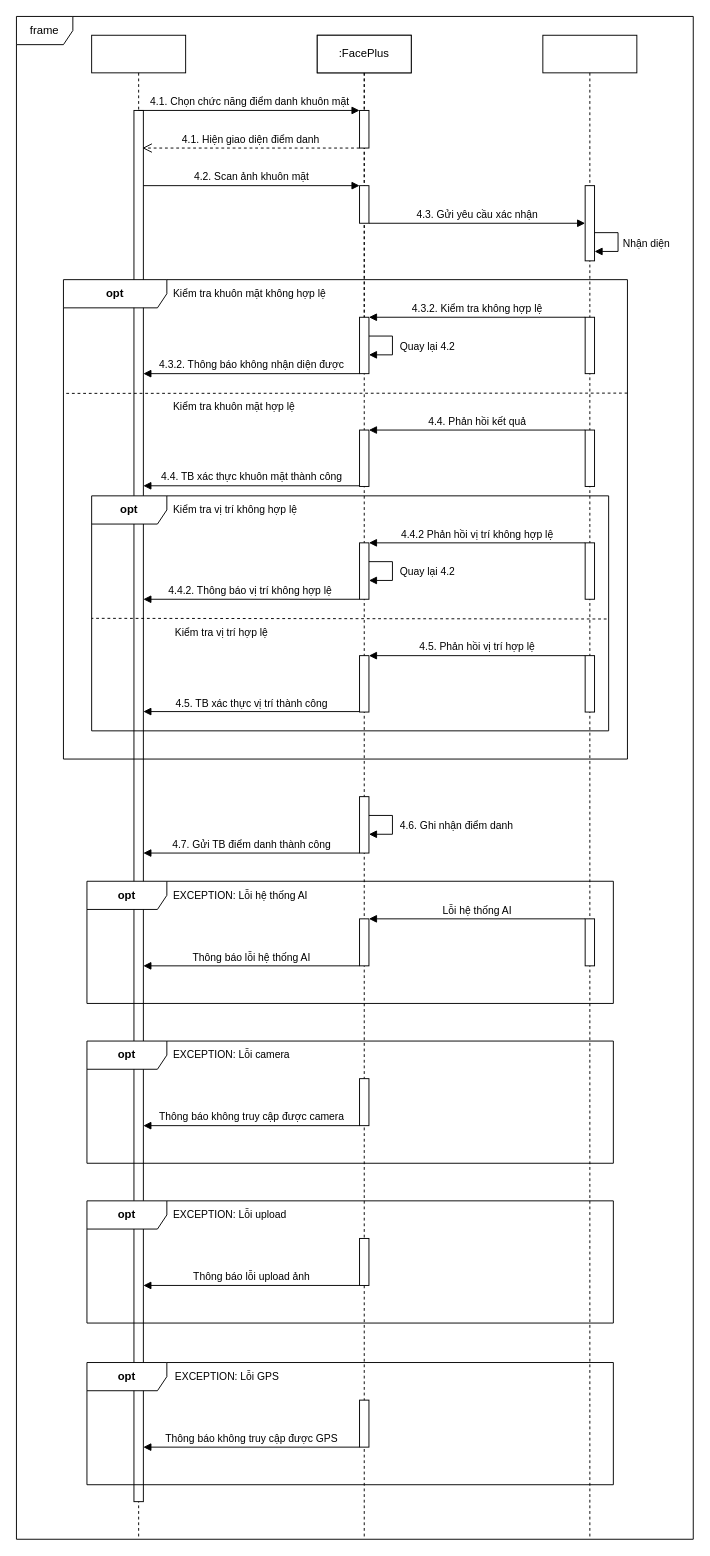
The diagram is 710 pixels wide and 1556 high, and some of its shapes have lost their labels. The box of each missing label's shape, as (x1, y1, x2, y2) in pixels:
:Hệ thống AI: (542, 34, 637, 1539)
:Sinh viên: (91, 34, 186, 1539)
